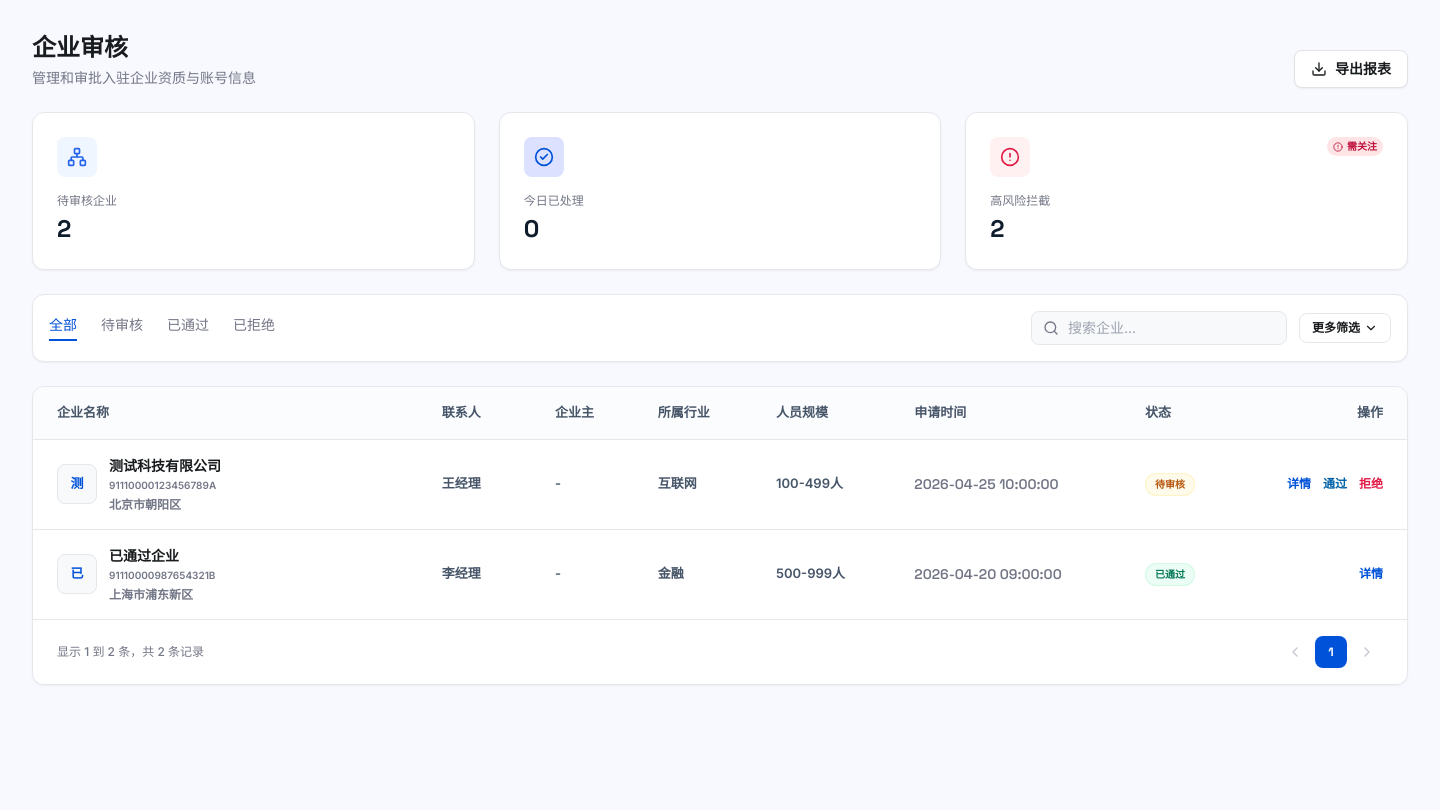
Test: AdminEnterpriseReviewPage › 点击详情按钮打开企业详情弹窗
expect the text "测试科技有限公司" is shown: met, box [109,456,221,476]
Click the button "详情" in the row of "91110000123456789A" at (1299, 484), box [1287,476,1311,492]
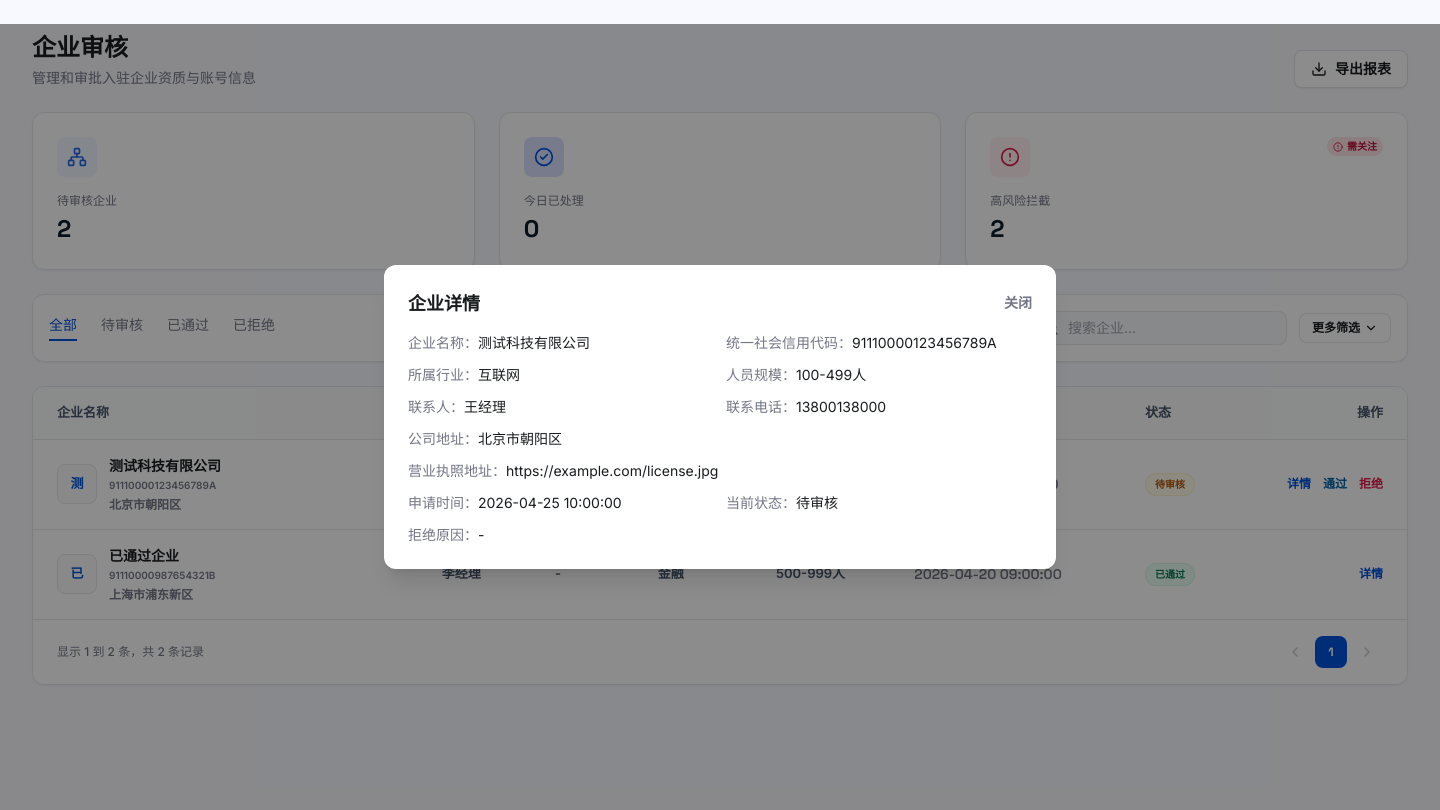
expect the heading "企业详情" is shown: met, box [408,289,480,317]
